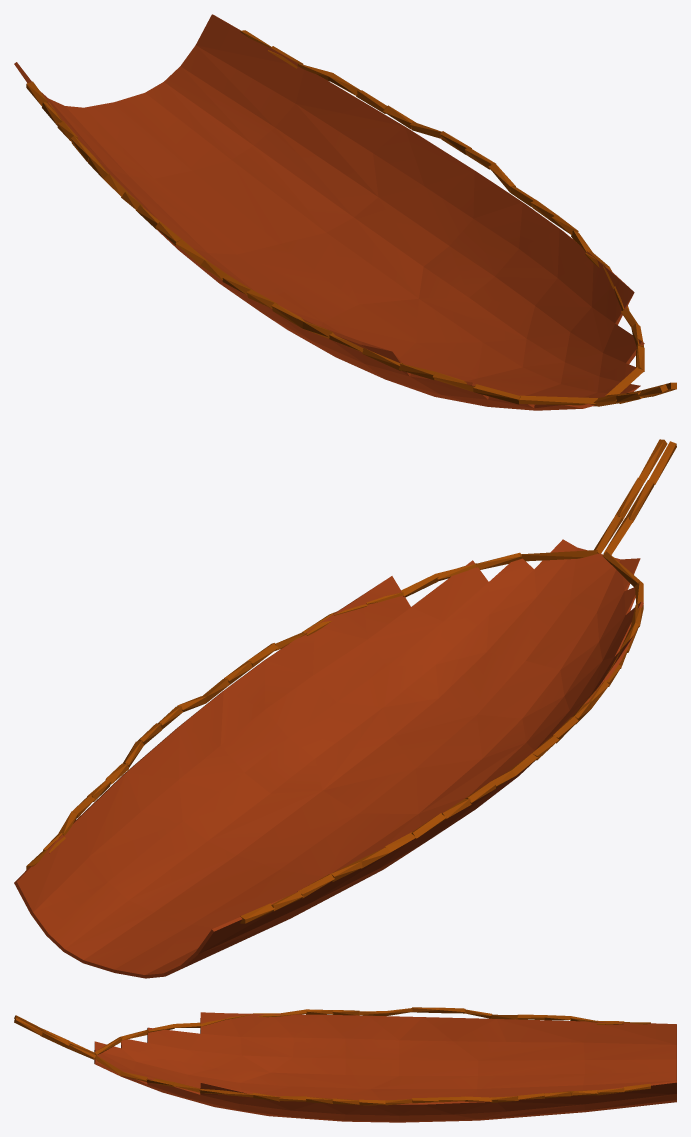
File: upgrade_copper_banded_hull.three-web-toon.lod50.glb
3 renders of one model, top to bottom at view 1: azimuth 30°, elevation 25°; view 2: azimuth 150°, elevation 25°; view 3: azimuth 270°, elevation 25°, orthographic. The views are drawn at different scales.
Parts seen in each view (by area): view 1: upgrade_copper_banded_hull_mesh_lod; view 2: upgrade_copper_banded_hull_mesh_lod; view 3: upgrade_copper_banded_hull_mesh_lod.
Part boxes in pixels (box(x1,y1,x2,y2)): upgrade_copper_banded_hull_mesh_lod: box(14, 14, 676, 410); upgrade_copper_banded_hull_mesh_lod: box(14, 439, 676, 978); upgrade_copper_banded_hull_mesh_lod: box(14, 1007, 676, 1122).
Size of the model in its own units: 3.21 by 1.44 by 9.64.
